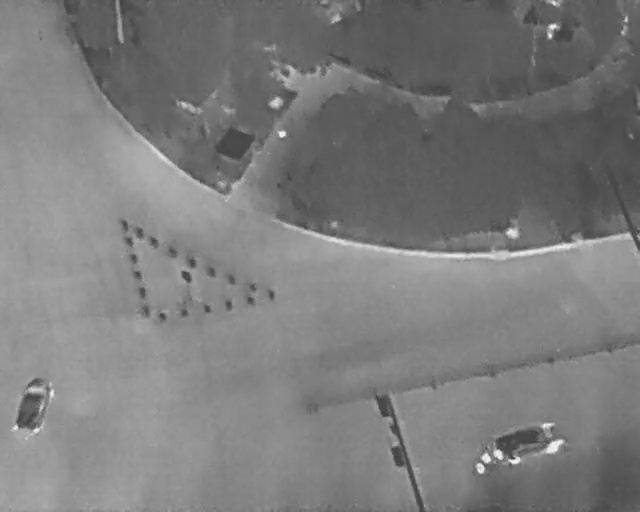Car: (490, 415, 568, 468), (13, 372, 58, 436)
